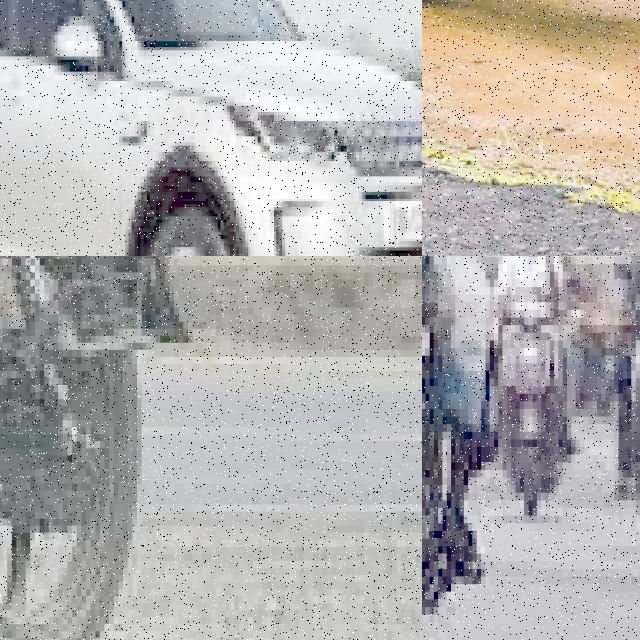bike: (0, 256, 225, 640), (422, 0, 640, 125), (498, 272, 567, 531), (422, 256, 464, 640), (618, 264, 640, 569)
car: (0, 0, 422, 256)
